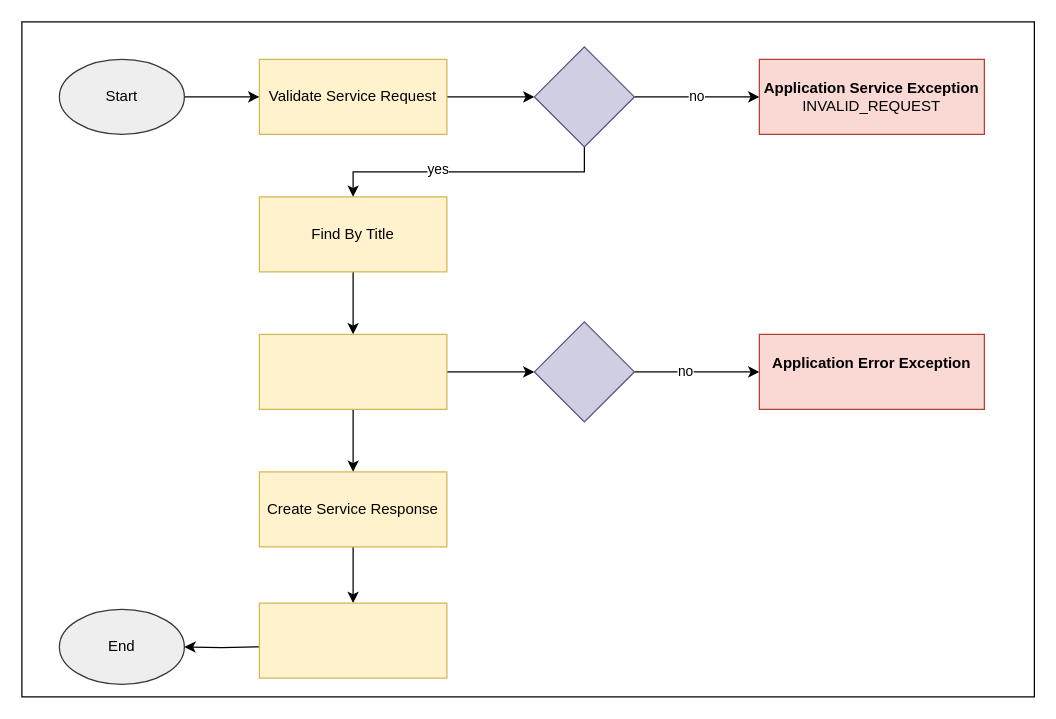
This 1056x719 diagram has some shape labels left out. The centre of each missing label's shape, as x and y in pixels:
"Deleted Entity" goes at (x=352, y=371).
"is Entity Deleted?" goes at (x=583, y=371).
"is Request Valid?" goes at (x=583, y=96).
"Return Service Response" goes at (x=352, y=640).
